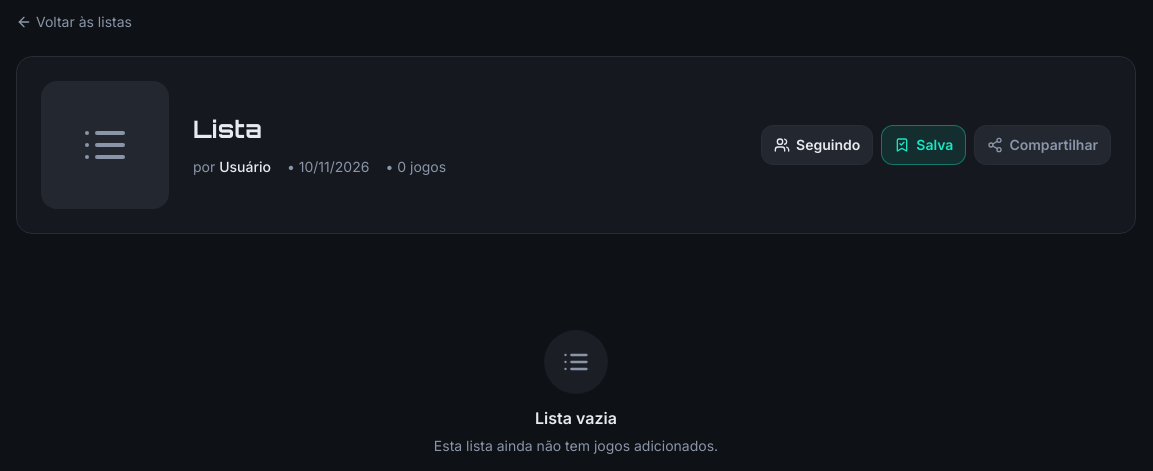
Test: persistent list preferences › restores saved and followed states after reopening
Later steps or results of the test are not shown.
expect the button "Seguindo" is shown: met, box [761,125,873,165]
Click the button "Salva".
click(924, 145)  # box [881,125,966,165]
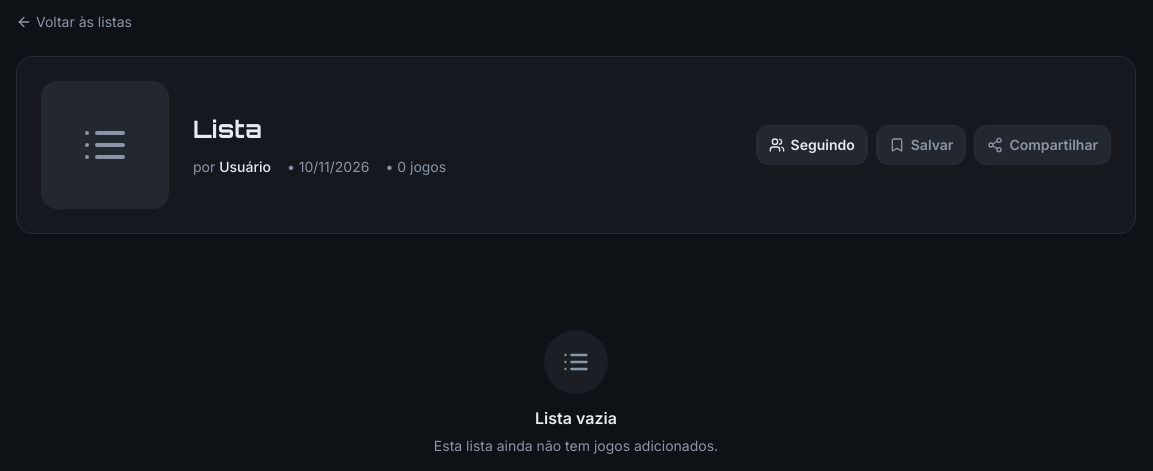
expect the button "Salvar" is shown: met, box [876,125,966,165]
